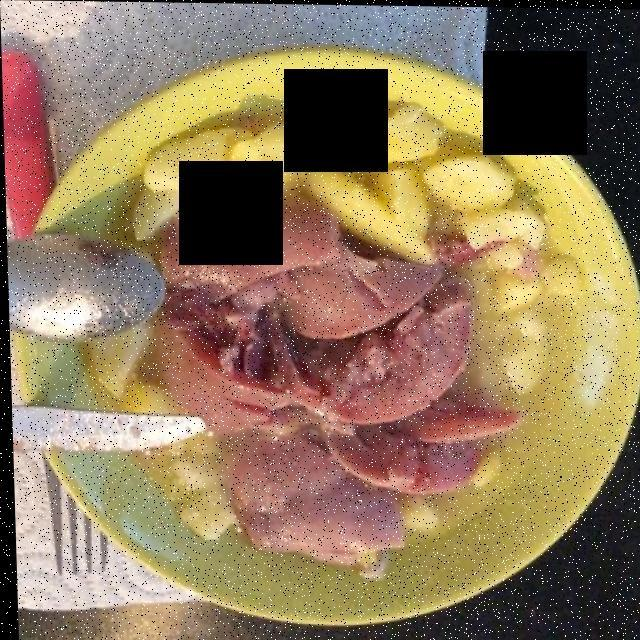potatoes: (71, 107, 575, 568)
